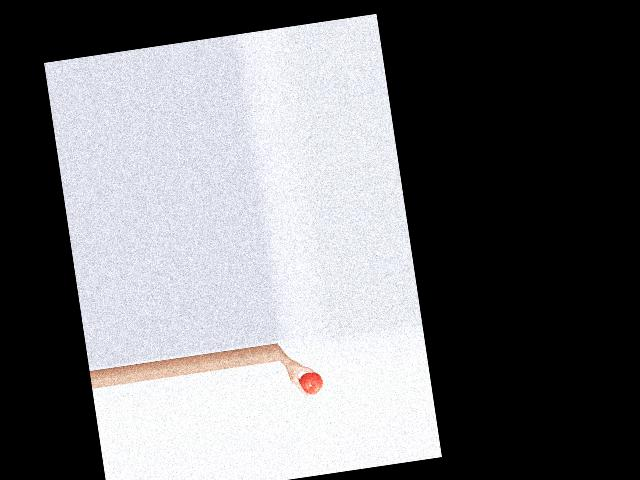tomato: (299, 371, 324, 396)
